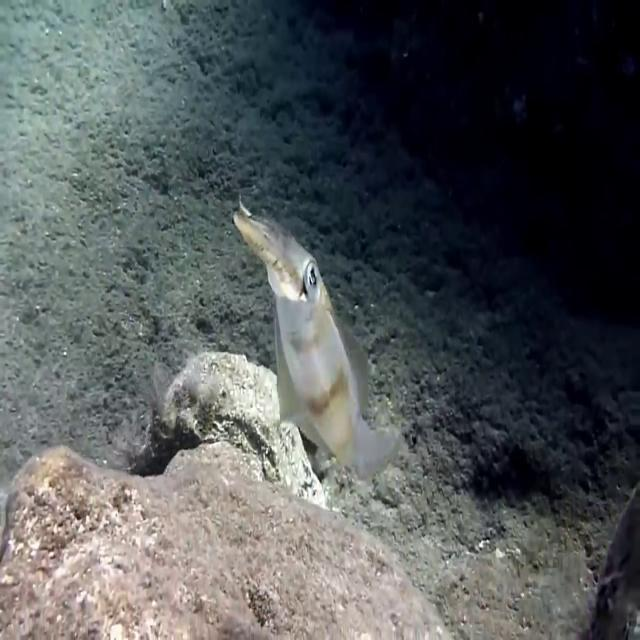SQUID: (184, 160, 434, 510)
